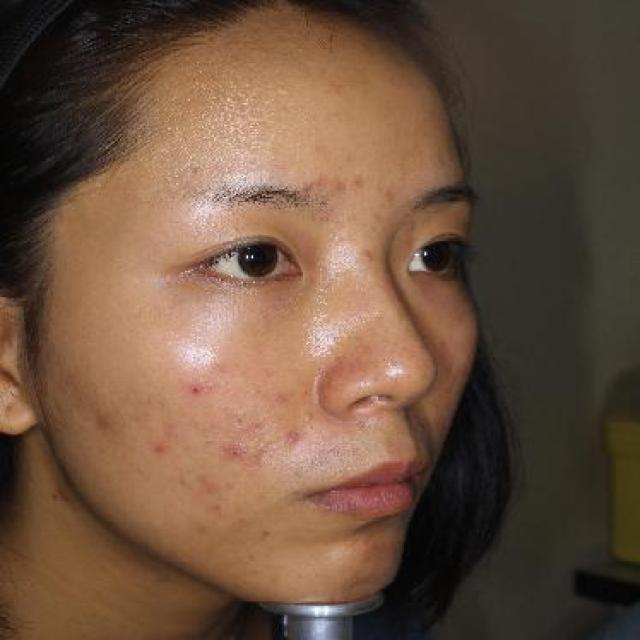blackheads: (183, 380, 204, 402), (210, 500, 230, 518), (192, 384, 200, 396)
